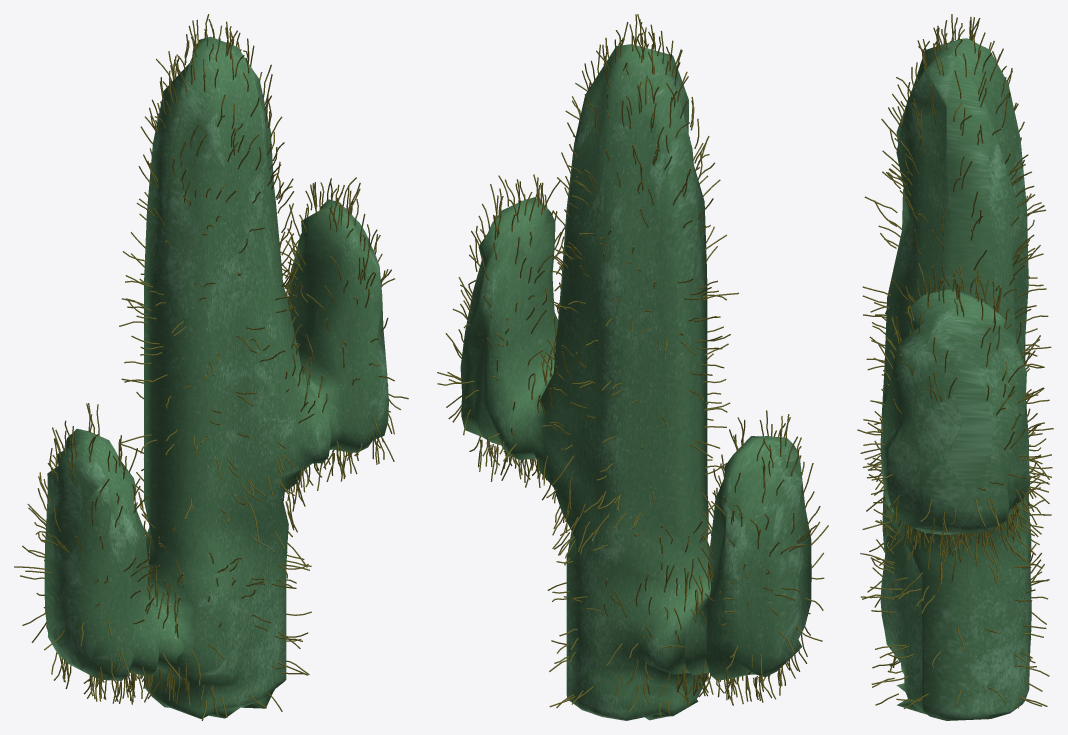
File: cactusPart2_model.fbx
3 renders of one model, left to right at view 1: azimuth 30°, elevation 25°; view 2: azimuth 150°, elevation 25°; view 3: azimuth 270°, elevation 25°, orthographic.
Parts seen in each view (by area): view 1: atari, toge; view 2: atari, toge; view 3: atari, toge.
Part boxes in pixels (<box>): atari: <box>44,36,388,719</box>; toge: <box>14,14,408,720</box>; atari: <box>460,44,811,720</box>; toge: <box>437,14,828,717</box>; atari: <box>880,38,1031,720</box>; toge: <box>857,14,1053,708</box>.
Size of the model in its own units: 61.01 by 110 by 28.88.
